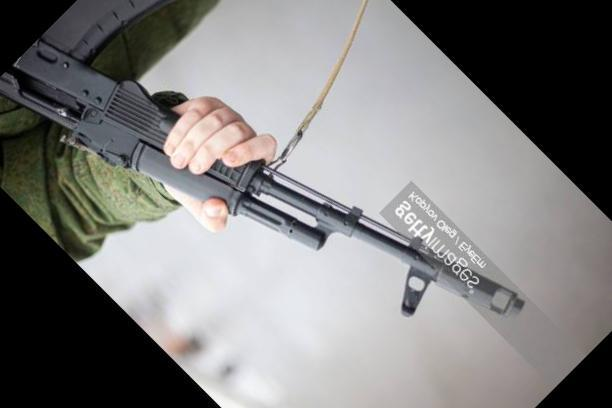larga: (0, 0, 528, 321)
